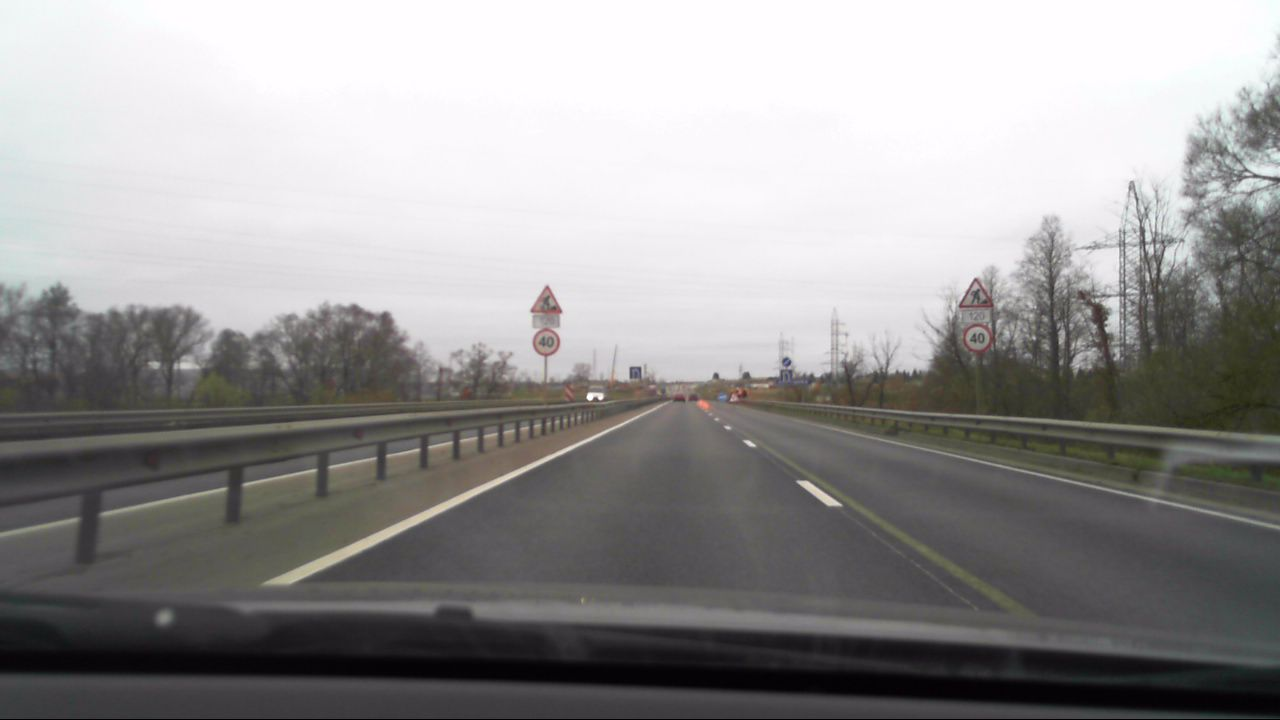speed_warning_40: (533, 329, 562, 356)
